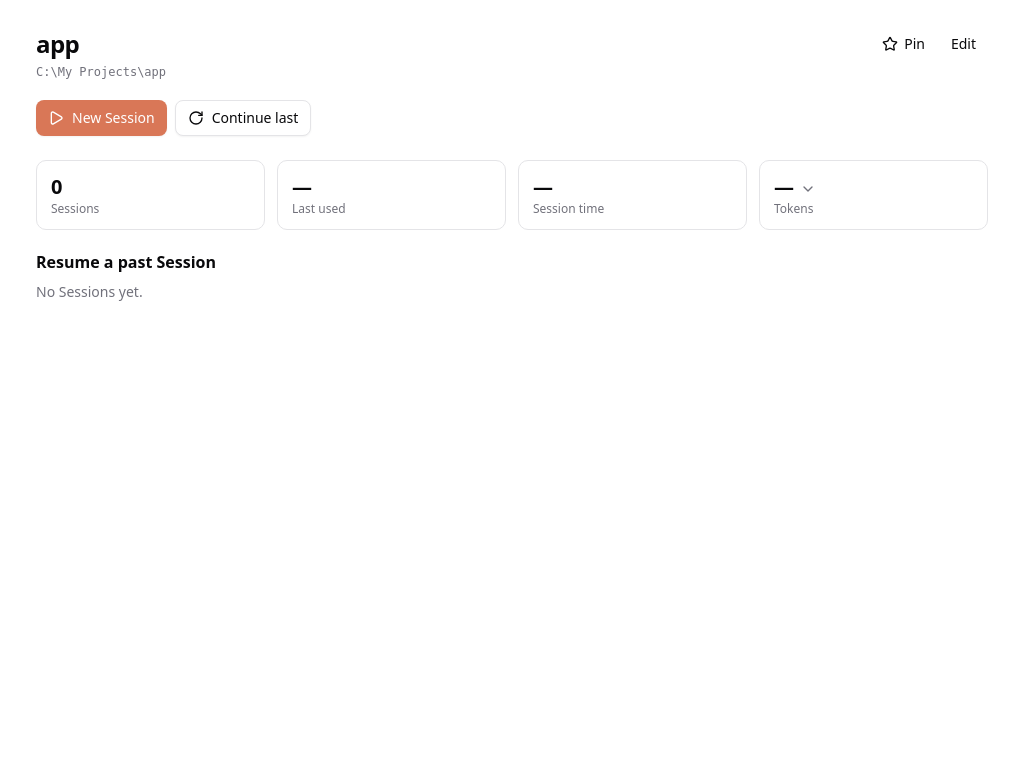
Launching from a Workspace › lets the error toast be dismissed
Click the button "New Session".
click(101, 118)  # box [36,100,167,136]
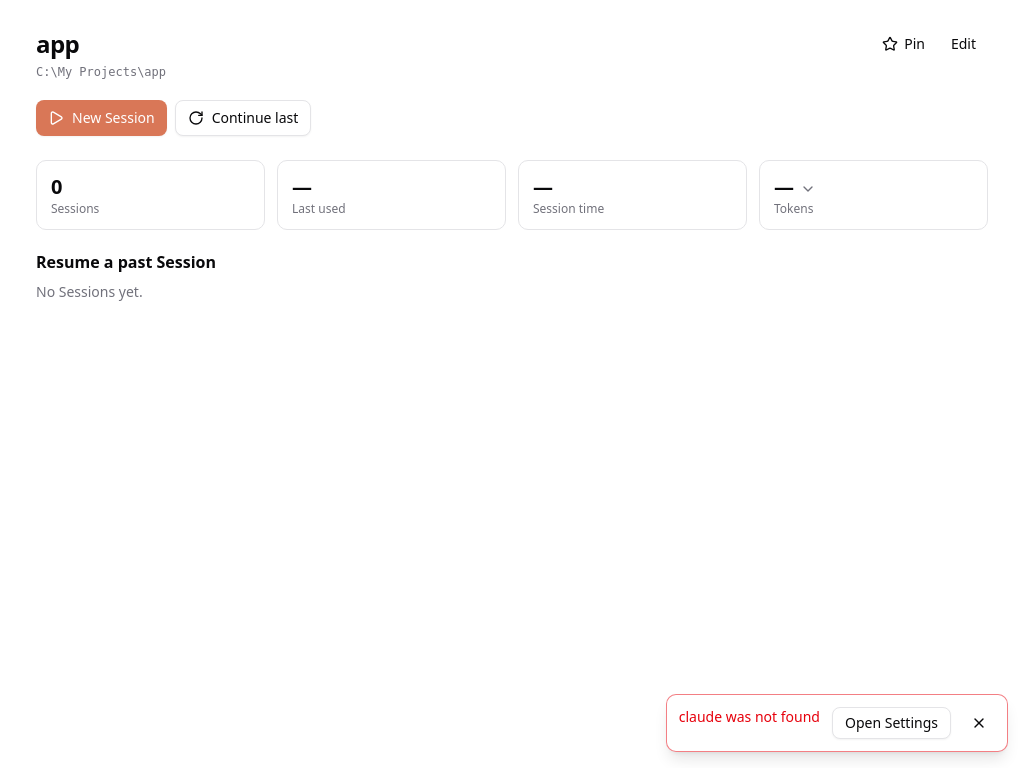
Expected: the message "claude was not found Open Settings" is shown, [666,694,1008,752]
Click the button named "Dismiss".
click(979, 723)  # box [963,707,995,739]
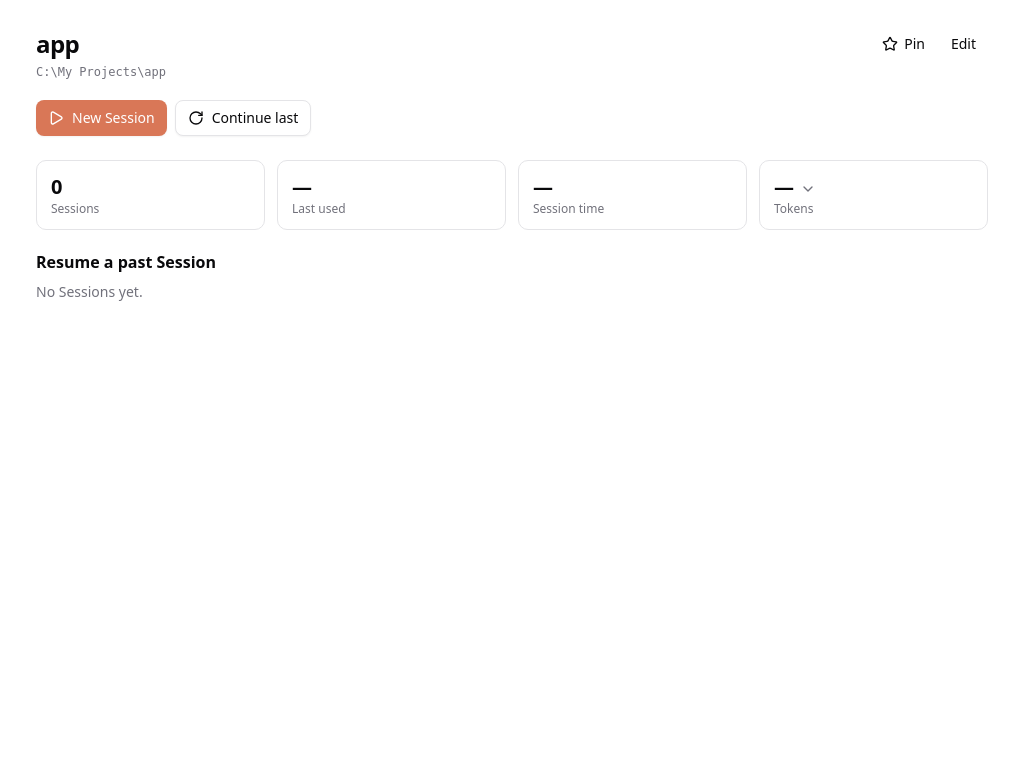
Expected: the message "claude was not found Open Settings" is gone
